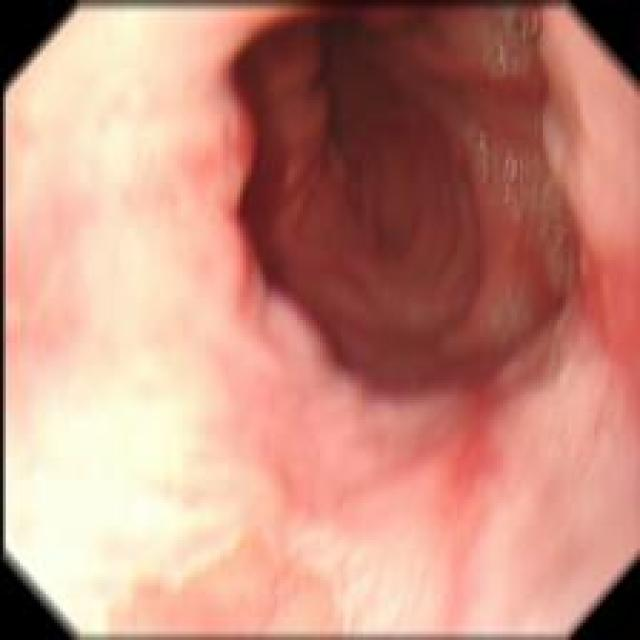blur: (1, 1, 639, 639), (238, 8, 479, 396), (478, 4, 620, 501), (496, 145, 564, 250), (491, 14, 538, 81)
bubbles: (496, 142, 568, 249), (492, 11, 531, 76)
contrast: (239, 6, 480, 400)
saturation: (2, 2, 235, 639), (339, 552, 439, 638)
